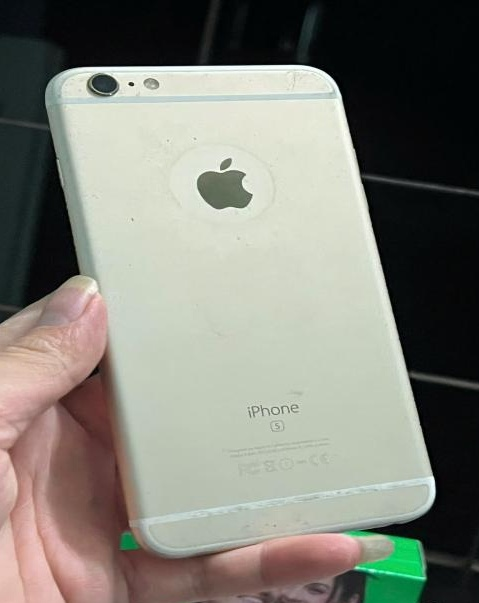scratch: (47, 68, 143, 107), (225, 513, 338, 538), (153, 129, 212, 168), (267, 66, 339, 95), (114, 202, 185, 225)
